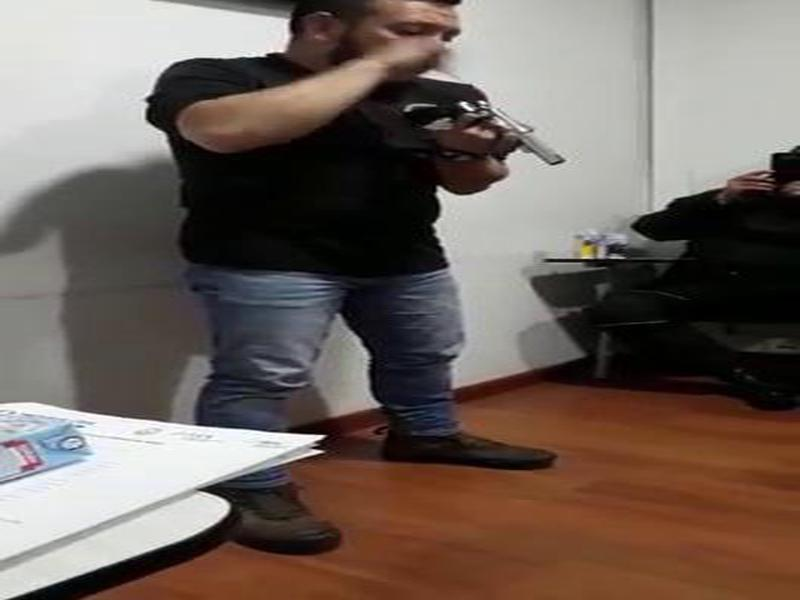Revolver: (429, 82, 565, 204)
